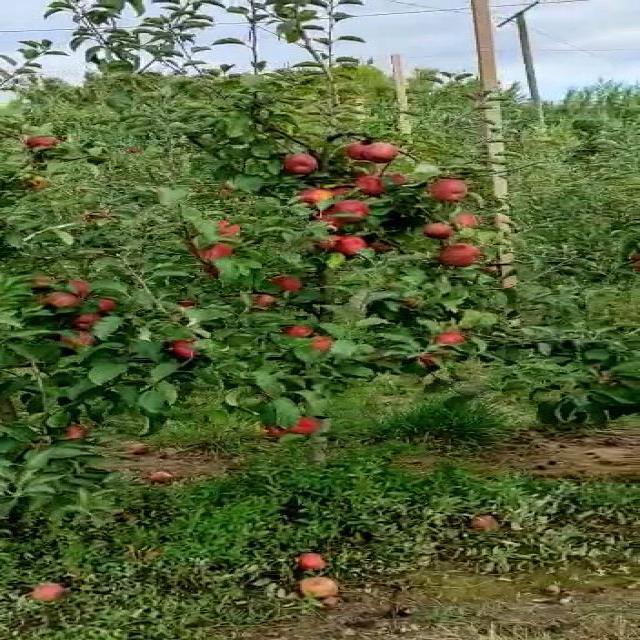100-_ripeness: (325, 199, 380, 224), (425, 177, 473, 203), (35, 291, 89, 314), (414, 222, 464, 243), (191, 243, 236, 265), (284, 153, 326, 176), (174, 335, 206, 364), (198, 221, 246, 240), (344, 176, 387, 197), (296, 190, 349, 207), (440, 245, 480, 266), (262, 274, 302, 293), (364, 141, 400, 162), (276, 419, 320, 436), (302, 335, 345, 352), (331, 237, 369, 255), (431, 332, 471, 349), (75, 312, 109, 330), (29, 135, 58, 155), (284, 324, 320, 340)
